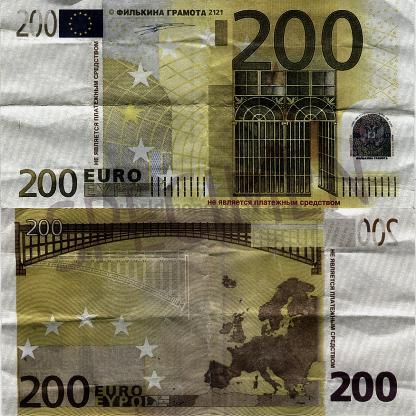euro_banknote: (1, 209, 416, 416), (1, 2, 416, 206)
